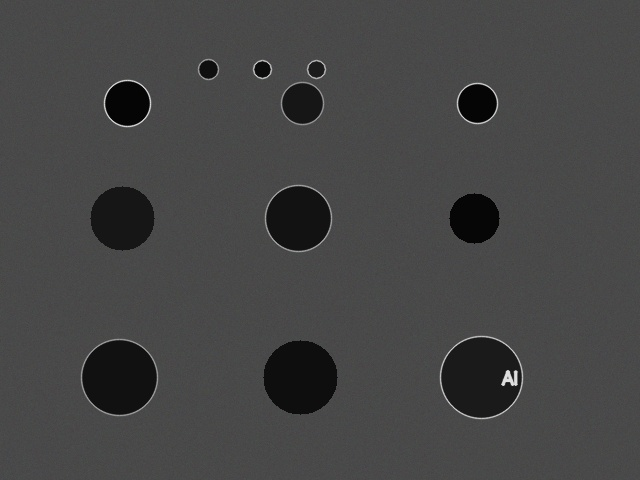hole: (440, 336, 522, 418), (81, 339, 157, 415), (263, 340, 337, 414), (265, 185, 331, 251), (90, 186, 154, 250), (449, 193, 499, 243), (104, 80, 150, 126), (281, 82, 323, 124), (457, 83, 497, 123), (198, 59, 218, 79), (253, 60, 271, 78), (307, 60, 325, 78)
